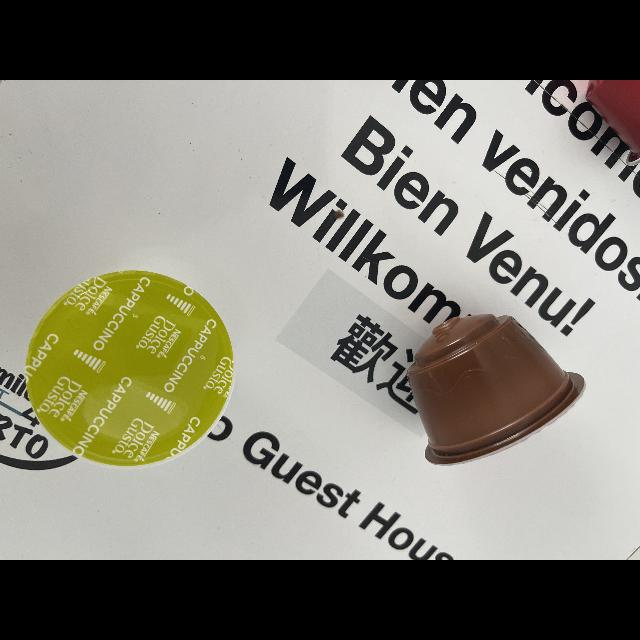intact_capsule: (19, 260, 247, 478), (402, 304, 590, 476)
